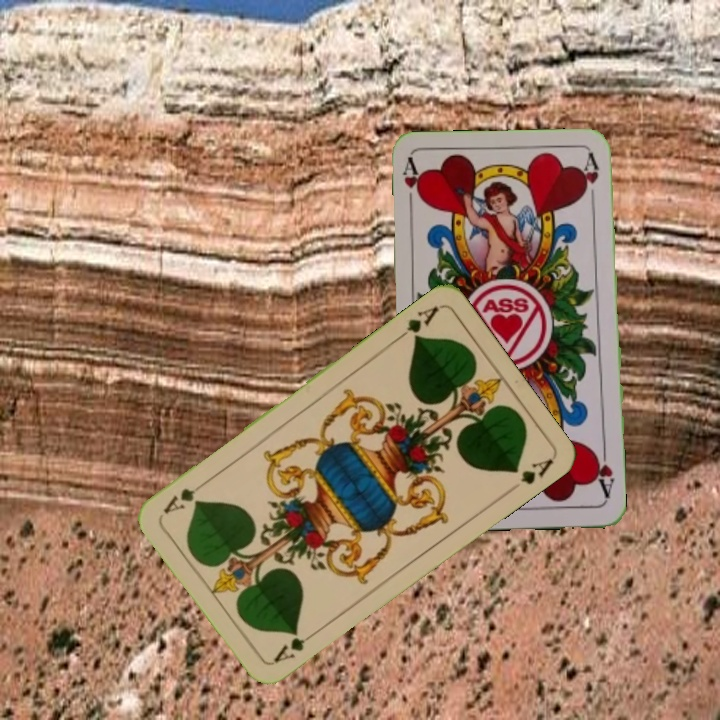GA: (392, 302, 441, 344), (268, 627, 319, 667)
HA: (399, 156, 426, 215), (590, 443, 616, 501)
